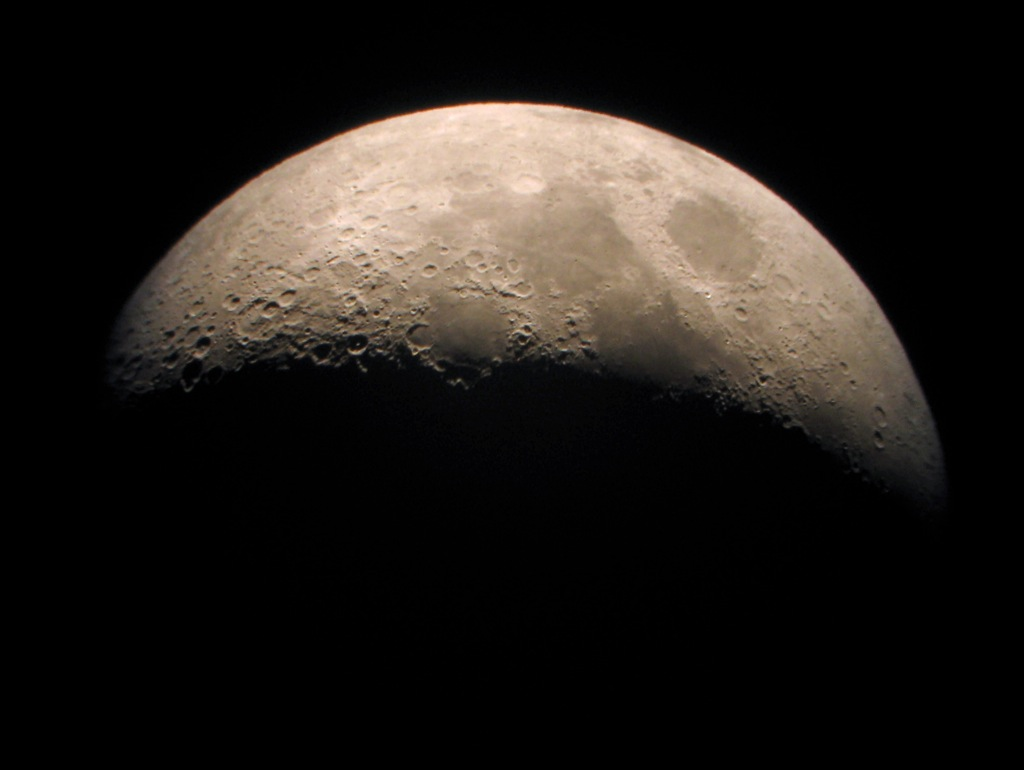crater: (657, 184, 774, 292), (502, 165, 552, 200), (380, 177, 426, 214), (860, 397, 897, 430), (767, 269, 798, 308), (340, 330, 373, 357), (414, 258, 447, 281), (724, 304, 756, 327), (813, 300, 835, 327), (331, 225, 358, 239)
